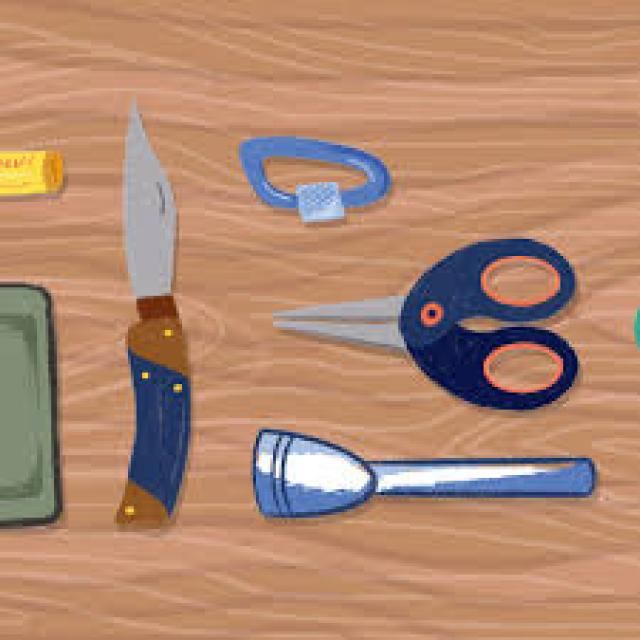knives: (90, 73, 229, 572)
